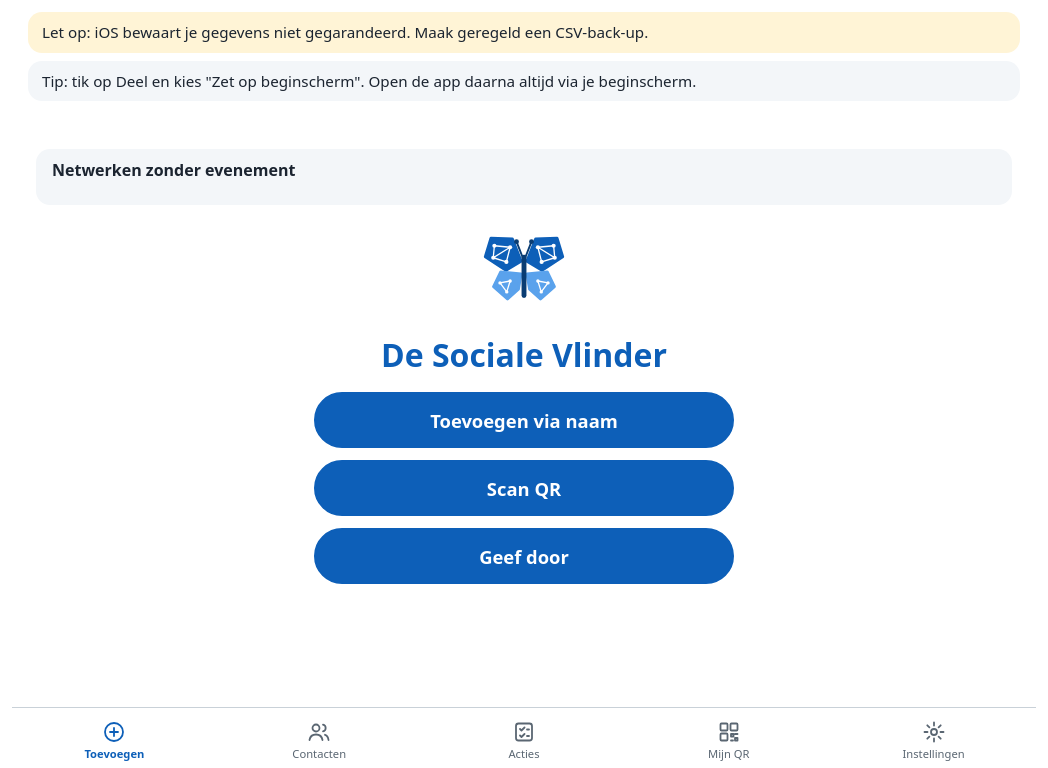
it: Settings: CSV backup (F10 US1) › shows "saved" and the time of the last backup after a share
Step 1. Click the button "Instellingen" → coordinates (934, 740), box [831,712,1036,767]
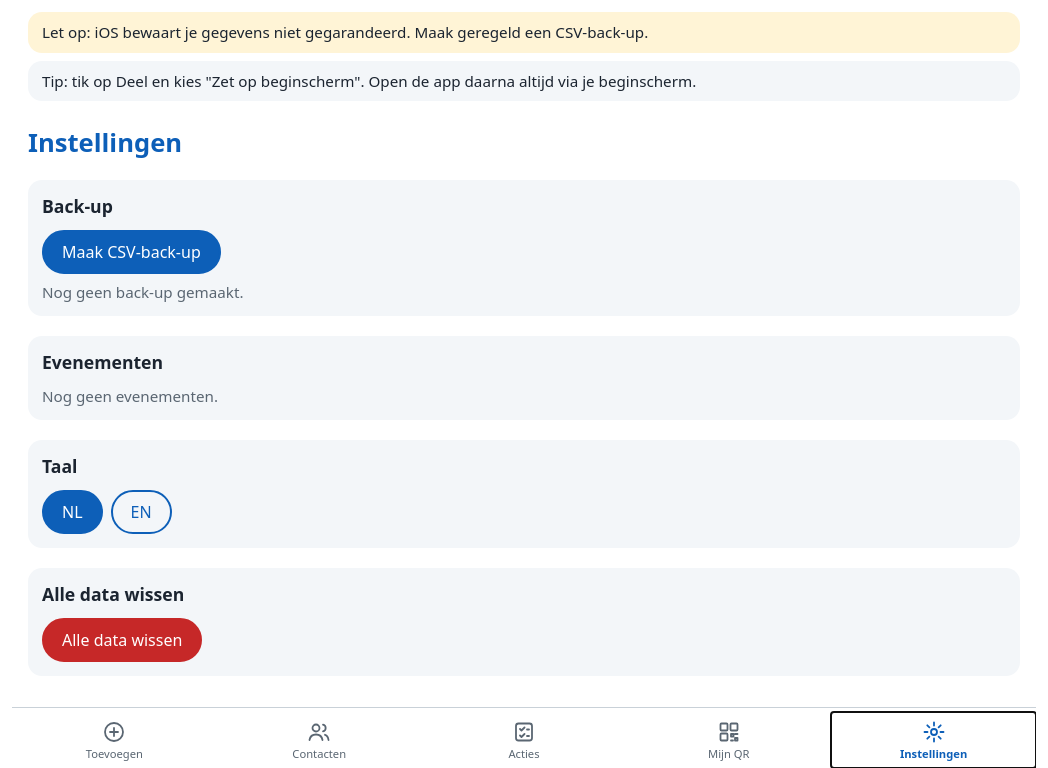
Expected: the heading "Instellingen" is shown, [28,125,182,160]
Expected: the button "Maak CSV-back-up" is enabled
Step 2. Click the button "Maak CSV-back-up" → coordinates (131, 252), box [42,230,221,274]
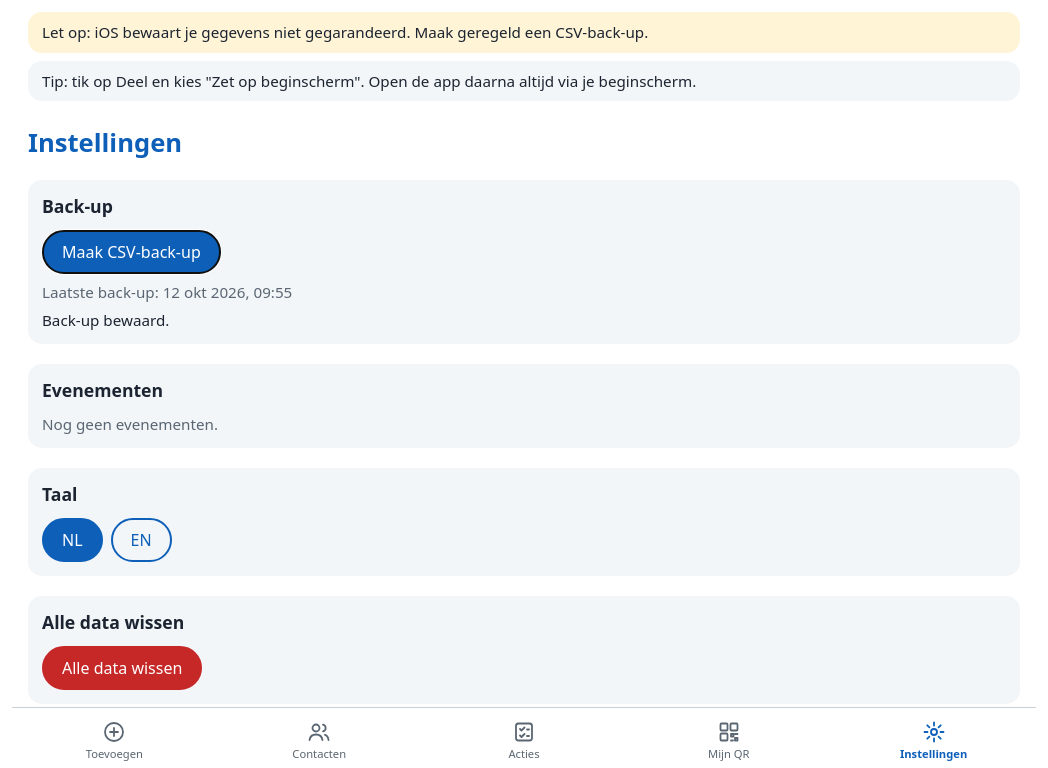
Expected: the text "Back-up bewaard." is shown, [42,310,169,330]
Expected: the text "Nog geen back-up gemaakt." is gone
